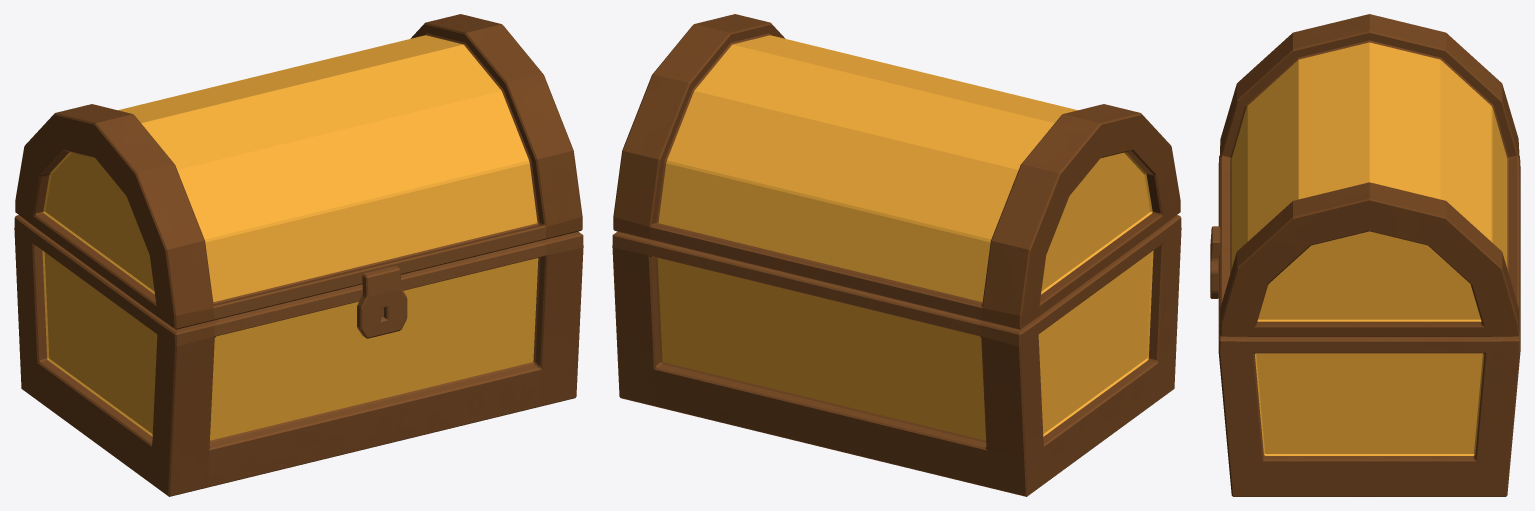
Rendered from tresure.glb.
3 renders of one model, left to right at view 1: azimuth 30°, elevation 25°; view 2: azimuth 150°, elevation 25°; view 3: azimuth 270°, elevation 25°, orthographic. The views are drawn at different scales.
Parts seen in each view (by area): view 1: Cylinder.002; view 2: Cylinder.002; view 3: Cylinder.002.
Part boxes in pixels (x1,y1,x2,y2): Cylinder.002: (14, 14, 583, 496); Cylinder.002: (612, 14, 1181, 496); Cylinder.002: (1210, 14, 1520, 496).
Bounding box in the file's own units: 1.04 × 0.7793 × 0.7336.
Materials: 1 (1 with a texture image).
